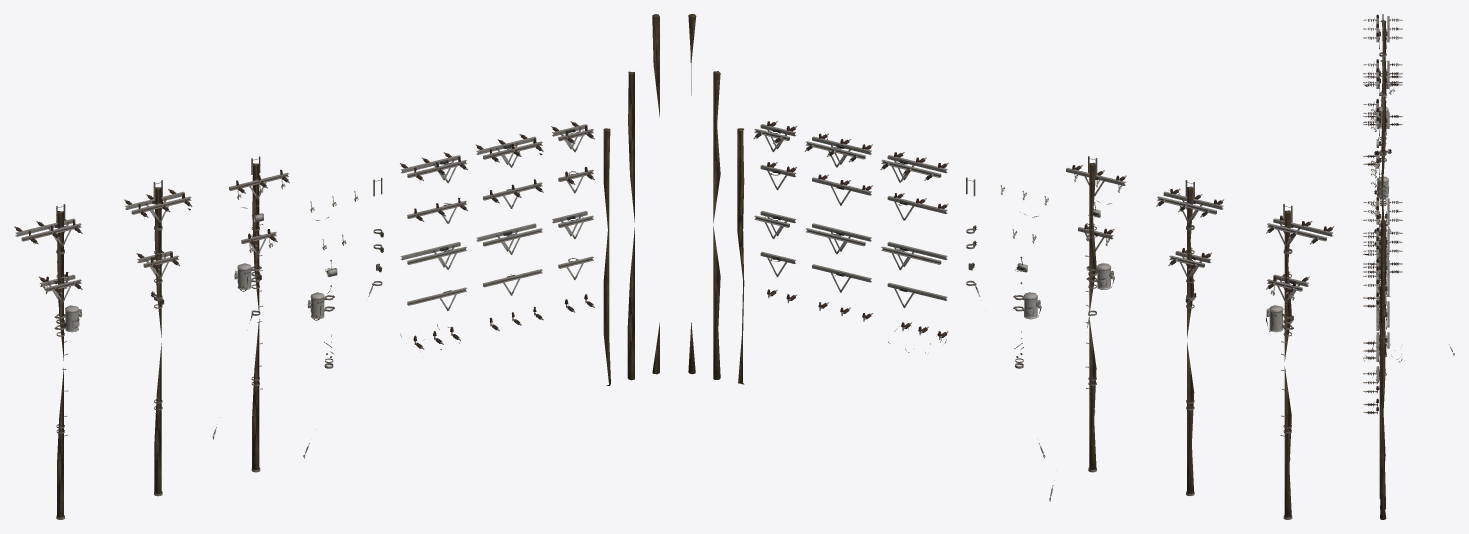
The model's file is modular_electricity_poles.glb.
3 views of the same model, side by side, from view 1: azimuth 30°, elevation 25°; view 2: azimuth 150°, elevation 25°; view 3: azimuth 270°, elevation 25° (orthographic). The views are drawn at different scales.
Visible parts, largest first — view 1: pole, preset_01_pole, preset_02_pole, preset_03_pole, pole_small, connection_large_01, connection_large_offset_01, preset_02_connection_large_01, preset_03_connection_large_offset_01, pole_large, support_large_offset_01, support_large_01; view 2: pole, preset_01_pole, preset_03_pole, preset_02_pole, pole_small, connection_large_01, connection_large_offset_01, preset_02_connection_large_01, preset_03_connection_large_offset_01, support_large_offset_01, support_large_01; view 3: pole_small, pole_large, pole, preset_03_connection_large_offset_01, preset_02_connection_large_01, preset_01_pole, connection_large_01, connection_large_offset_01, connection_small_01, preset_02_pole, preset_01_transformer_01, preset_02_connection_small_01 (+8 smaller).
Boxes of the visible parts, x1,y1,x2,y2 form: pole: (627,71,634,380); preset_01_pole: (252,163,259,469); preset_02_pole: (154,187,161,493); preset_03_pole: (57,211,63,517); pole_small: (603,128,610,385); connection_large_01: (475,134,543,167); connection_large_offset_01: (400,152,467,183); preset_02_connection_large_01: (124,189,192,222); preset_03_connection_large_offset_01: (14,218,82,246); pole_large: (652,14,659,374); support_large_offset_01: (400,242,466,269); support_large_01: (476,223,542,254); pole: (713,71,720,379); preset_01_pole: (1089,162,1096,469); preset_03_pole: (1284,210,1291,517); preset_02_pole: (1187,186,1194,493); pole_small: (737,128,744,384); connection_large_01: (804,133,872,167); connection_large_offset_01: (880,152,948,182); preset_02_connection_large_01: (1156,188,1224,222); preset_03_connection_large_offset_01: (1266,215,1334,246); support_large_offset_01: (881,241,947,270); support_large_01: (806,223,871,254); pole_small: (1379,286,1385,498); pole_large: (1380,219,1386,519); pole: (1380,267,1385,509); preset_03_connection_large_offset_01: (1363,14,1402,49); preset_02_connection_large_01: (1363,59,1402,88); preset_01_pole: (1380,99,1386,354); connection_large_01: (1363,227,1402,257); connection_large_offset_01: (1363,197,1402,231); connection_small_01: (1363,258,1402,282); preset_02_pole: (1380,60,1386,311); preset_01_transformer_01: (1376,176,1389,199); preset_02_connection_small_01: (1363,112,1402,135).
Bounding box in the file's own units: 13.11 × 7 × 1.96.
Materials: 2 (2 with a texture image).
